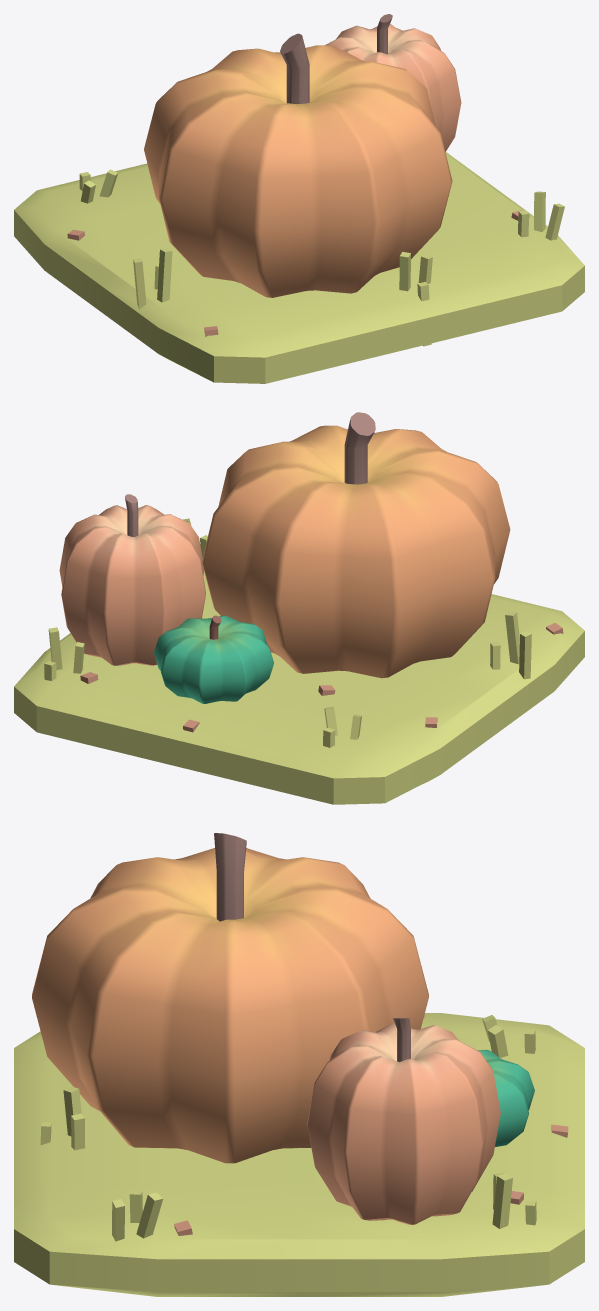
3 views of the same model, one above another, from view 1: azimuth 30°, elevation 25°; view 2: azimuth 150°, elevation 25°; view 3: azimuth 270°, elevation 25° (orthographic). The views are drawn at different scales.
Visible parts, largest first — view 1: pSphere1, pCube1, pasted__pSphere1, pCube2, pasted__pCube2; view 2: pSphere1, pCube1, pasted__pSphere1 (×2), pCube2, pasted__pCube2; view 3: pSphere1, pCube1, pasted__pSphere1 (×2), pasted__pCube2, pasted__pasted__pasted__pCube2_pasted__pasted__pasted__lambe.
Part boxes in pixels (x1,y1,x2,y2): pSphere1: (144,33,452,297); pCube1: (14,152,584,383); pasted__pSphere1: (325,14,461,151); pCube2: (157,248,172,302); pasted__pCube2: (133,258,146,309); pSphere1: (201,412,510,678); pCube1: (14,571,584,804); pasted__pSphere1 (×2): (59,494,273,703); pCube2: (505,611,519,664); pasted__pCube2: (519,631,531,679); pSphere1: (32,833,428,1163); pCube1: (14,1013,584,1296); pasted__pSphere1 (×2): (307,1018,534,1224); pasted__pCube2: (492,1173,512,1228); pasted__pasted__pasted__pCube2_pasted__pasted__pasted__lambe: (136,1192,162,1238).
Bounding box in the file's own units: 2.84 × 1.85 × 2.84.
Materials: 25 (3 with a texture image).
